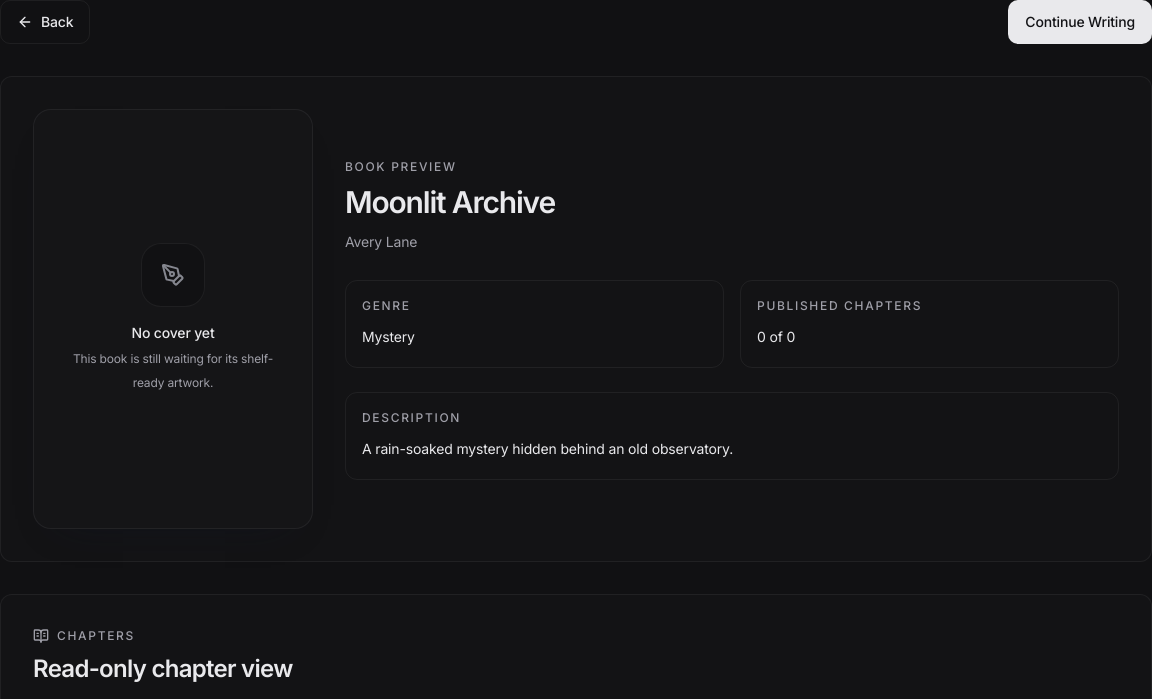
it: Writing preview routes › routes continue writing to writing home when a book has no chapters
This screenshot has width=1152, height=699.
Click the button "Continue Writing": (1080, 22) [1008,0,1151,44]
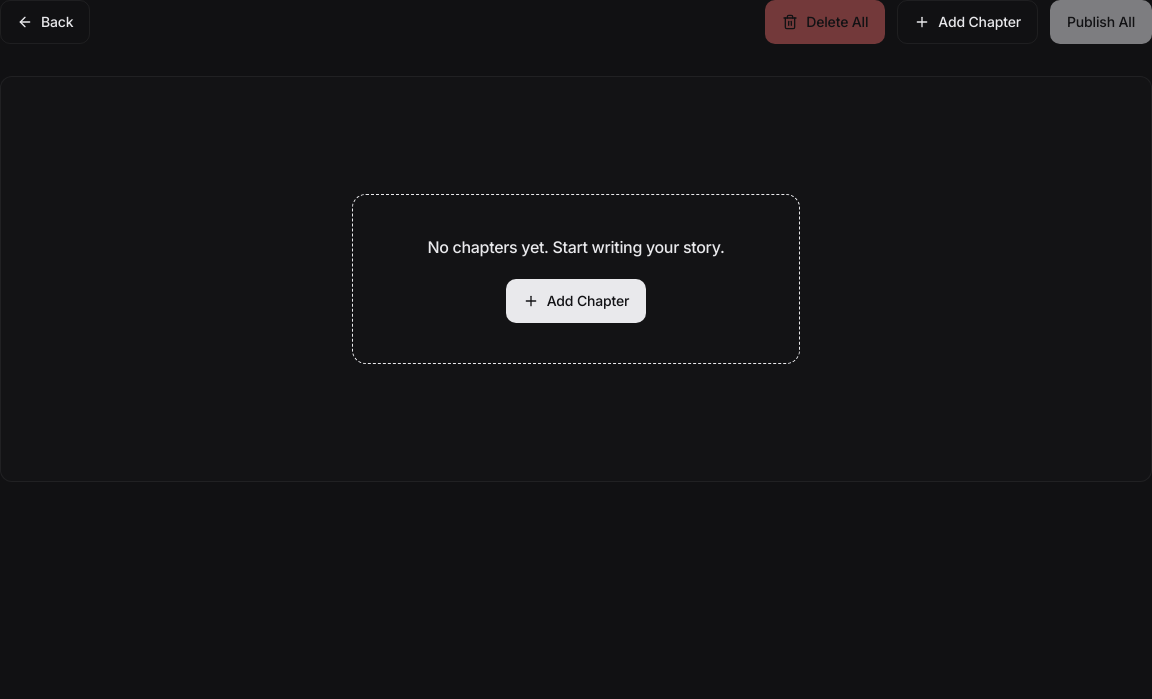
Now the text "No chapters yet. Start writing your story." is shown, box [428,237,724,257]
